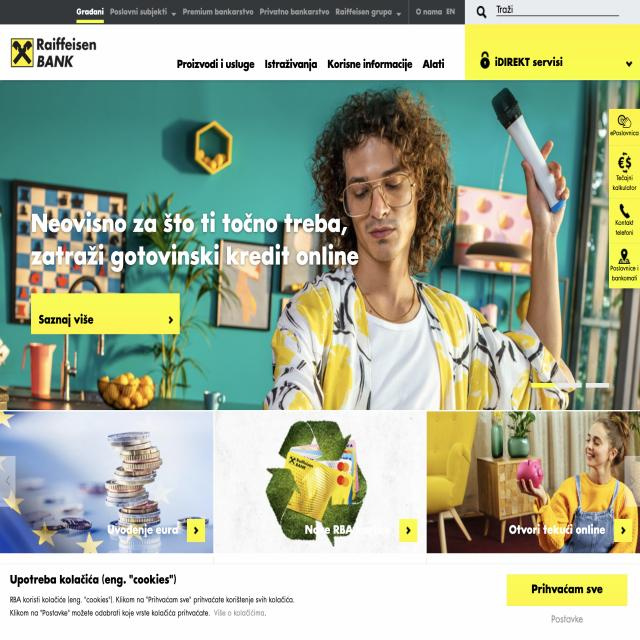Logo: (11, 28, 102, 77)
Navigation: (168, 48, 464, 78)
